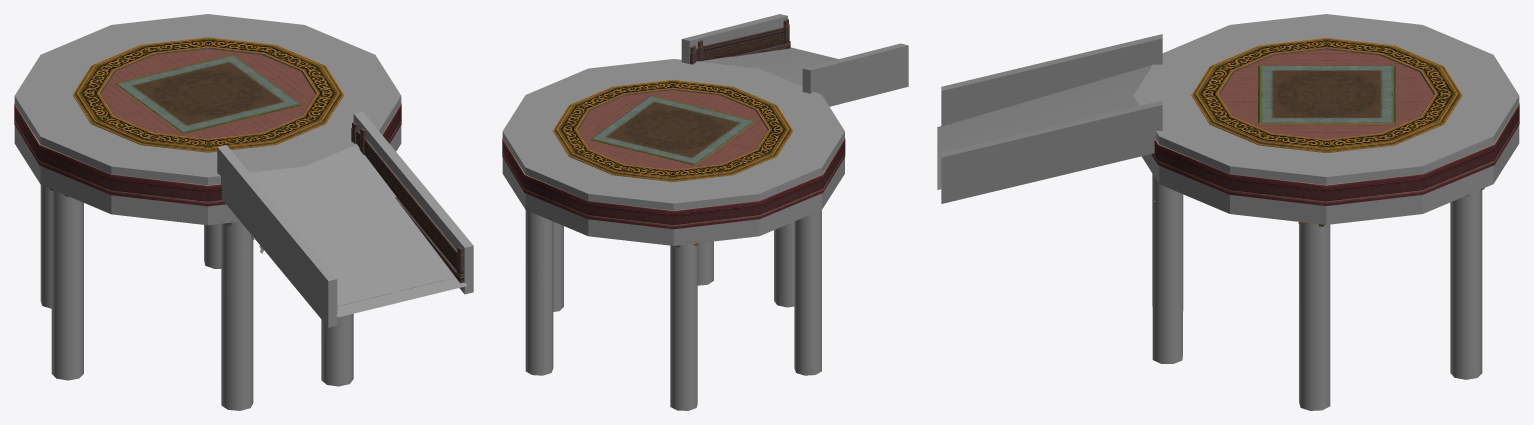
Rendered from Scene_Build_HuanYinFang_YuanTai_2.FBX.
The picture shows the model from 3 angles, left to right: view 1: azimuth 30°, elevation 25°; view 2: azimuth 150°, elevation 25°; view 3: azimuth 270°, elevation 25°; orthographic projection. The views are drawn at different scales.
Visible parts, largest first — view 1: Scene_Build_HuanYinFang_YuanTai_2_P_Xzm, Scene_Build_HuanYinFang_YuanTai_2_Xzm, Scene_Build_HuanYinFang_YuanTai_2a, Scene_Build_HuanYinFang_YuanTai_2b, Scene_Build_HuanYinFang_YuanTai_2d; view 2: Scene_Build_HuanYinFang_YuanTai_2_Xzm, Scene_Build_HuanYinFang_YuanTai_2_P_Xzm, Scene_Build_HuanYinFang_YuanTai_2a, Scene_Build_HuanYinFang_YuanTai_2b, Scene_Build_HuanYinFang_YuanTai_2d; view 3: Scene_Build_HuanYinFang_YuanTai_2_Xzm, Scene_Build_HuanYinFang_YuanTai_2_P_Xzm, Scene_Build_HuanYinFang_YuanTai_2a, Scene_Build_HuanYinFang_YuanTai_2b.
Boxes of the visible parts, x1,y1,x2,y2 form: Scene_Build_HuanYinFang_YuanTai_2_P_Xzm: (14,14,467,317); Scene_Build_HuanYinFang_YuanTai_2_Xzm: (14,96,473,410); Scene_Build_HuanYinFang_YuanTai_2a: (49,37,343,225); Scene_Build_HuanYinFang_YuanTai_2b: (14,49,401,206); Scene_Build_HuanYinFang_YuanTai_2d: (338,122,463,306); Scene_Build_HuanYinFang_YuanTai_2_Xzm: (502,14,908,410); Scene_Build_HuanYinFang_YuanTai_2_P_Xzm: (502,47,844,203); Scene_Build_HuanYinFang_YuanTai_2a: (552,79,807,375); Scene_Build_HuanYinFang_YuanTai_2b: (502,90,845,229); Scene_Build_HuanYinFang_YuanTai_2d: (690,19,831,64); Scene_Build_HuanYinFang_YuanTai_2_Xzm: (941,34,1519,410); Scene_Build_HuanYinFang_YuanTai_2_P_Xzm: (937,14,1519,189); Scene_Build_HuanYinFang_YuanTai_2a: (1191,37,1484,226); Scene_Build_HuanYinFang_YuanTai_2b: (1151,49,1519,205).
Size of the model in its own units: 1722 by 1290 by 2580.
